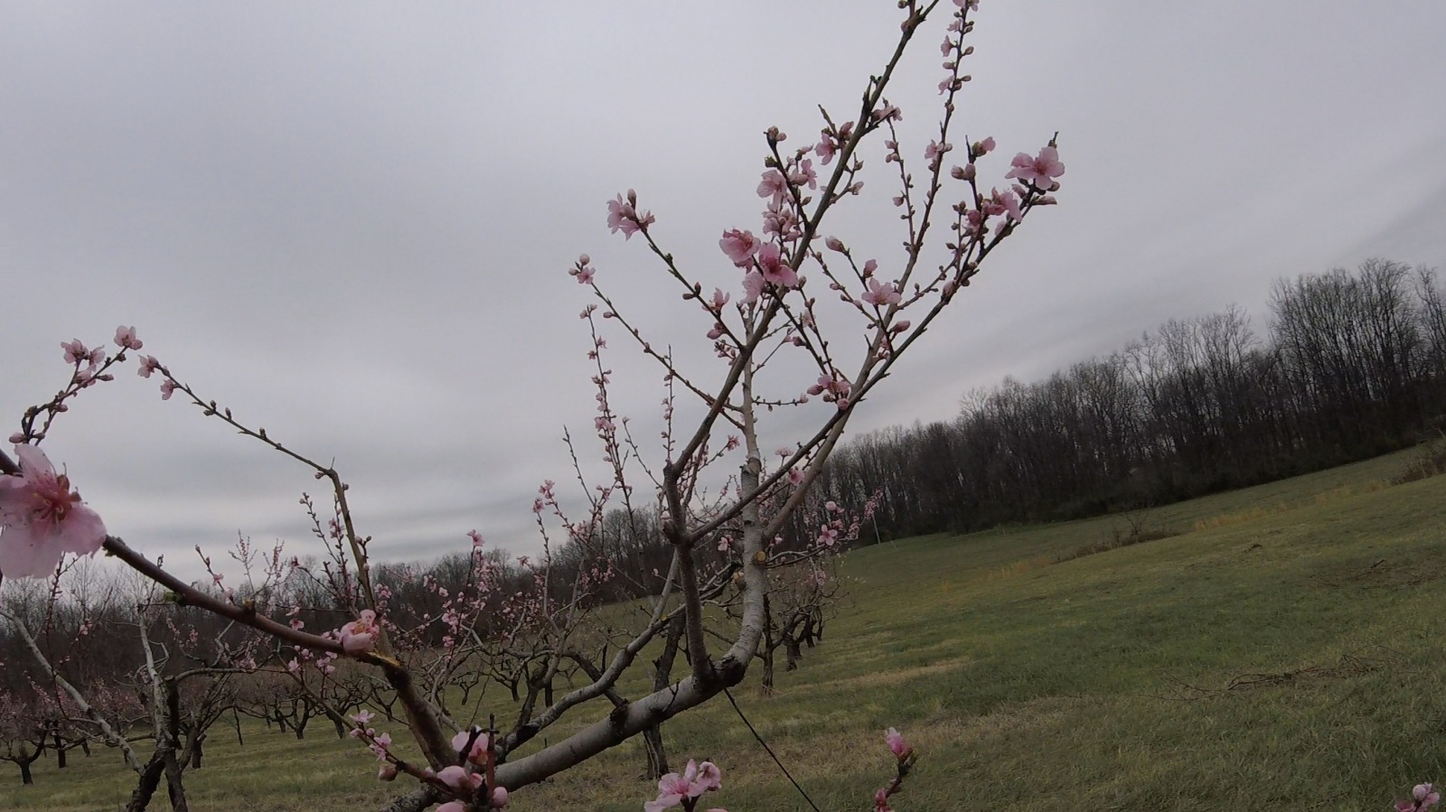flower: (719, 170, 828, 325), (0, 438, 108, 585), (644, 759, 722, 812), (962, 188, 1028, 241), (1005, 140, 1066, 195), (138, 355, 190, 401), (333, 610, 381, 651), (607, 193, 645, 241), (568, 249, 604, 285), (862, 275, 903, 306), (786, 157, 818, 191), (78, 346, 106, 380), (61, 339, 91, 364), (814, 133, 837, 165), (469, 733, 491, 765), (114, 326, 143, 350), (437, 766, 469, 787), (777, 466, 804, 490), (423, 799, 468, 812), (274, 614, 305, 631), (709, 288, 730, 312), (367, 737, 387, 761), (885, 727, 904, 752), (925, 140, 944, 164), (817, 525, 838, 546), (818, 363, 835, 388), (595, 417, 616, 435), (452, 733, 471, 752), (938, 75, 955, 96), (349, 710, 375, 723), (466, 530, 485, 547), (493, 787, 510, 805), (947, 17, 964, 34), (978, 137, 996, 152), (941, 36, 953, 57), (775, 448, 795, 460), (973, 341, 987, 358), (539, 481, 556, 495), (637, 211, 655, 224), (374, 733, 392, 746), (797, 145, 813, 159), (866, 259, 878, 275), (969, 0, 980, 13), (953, 0, 966, 10), (943, 62, 951, 70), (105, 550, 108, 557), (928, 165, 934, 168), (576, 263, 579, 267)
